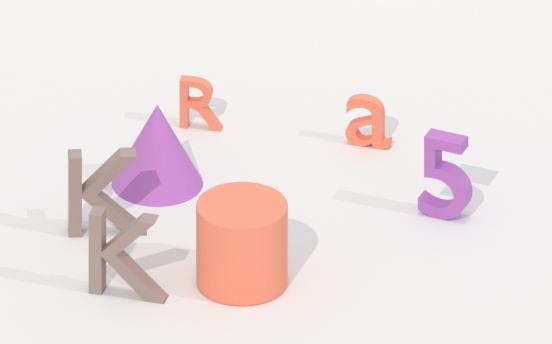5: (416, 125, 476, 222)
R-hoa: (174, 72, 225, 136)
a: (343, 92, 396, 154)
k: (81, 207, 180, 305), (62, 144, 150, 238)
non: (106, 108, 207, 208)
tru: (192, 182, 291, 303)
